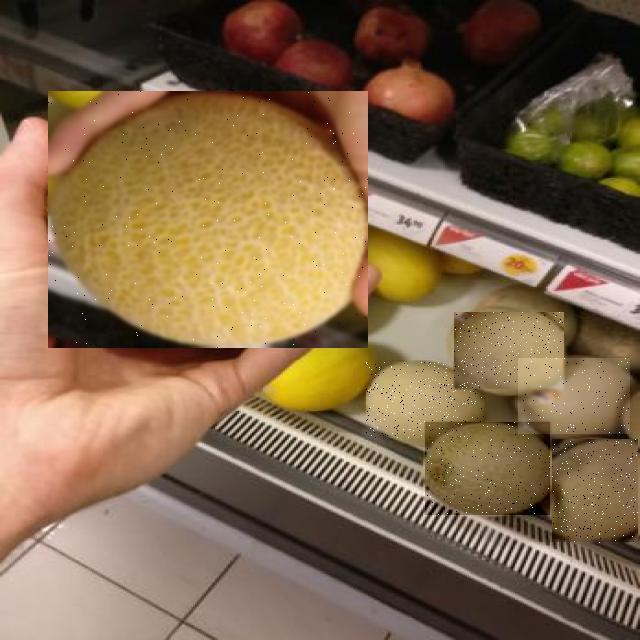Galia: (48, 91, 368, 348), (425, 422, 550, 515), (366, 362, 484, 438), (552, 440, 638, 544), (519, 358, 631, 434), (455, 312, 565, 389)
